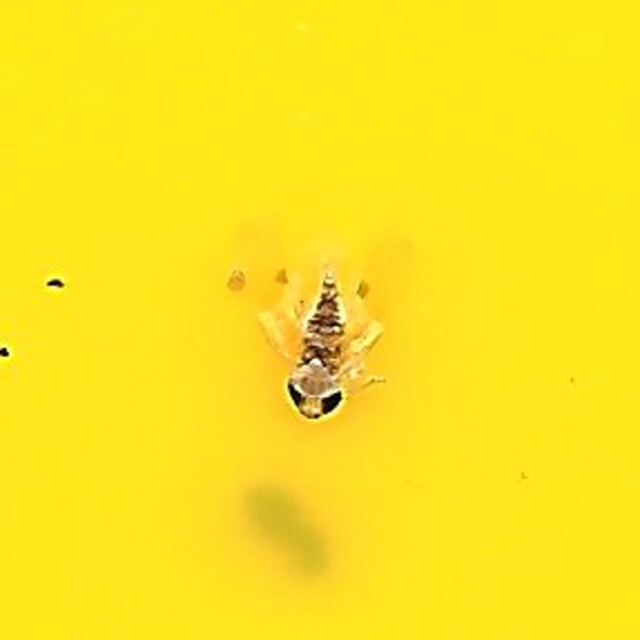Hemiptera: (223, 215, 417, 425)
